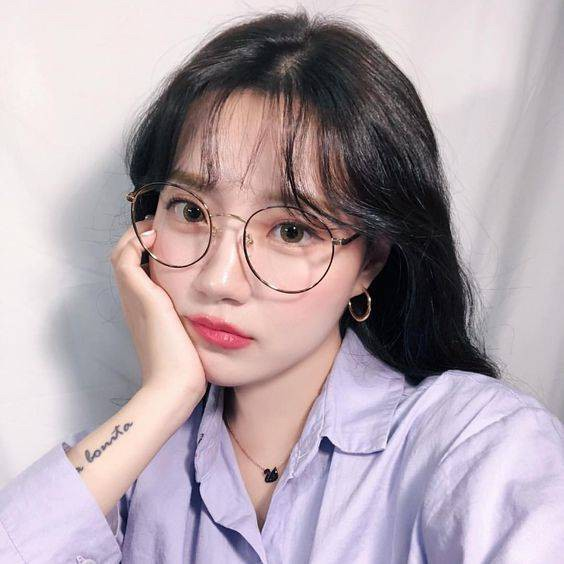people: (110, 10, 451, 564)
